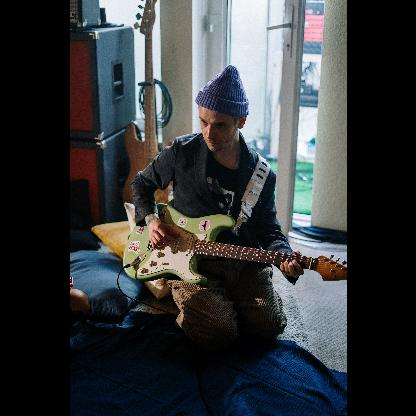guitar: (121, 206, 345, 288)
